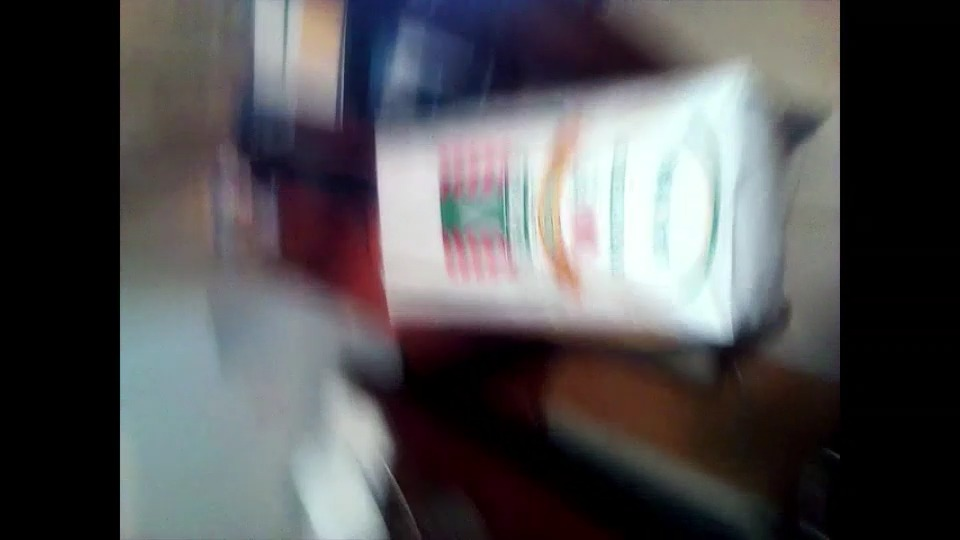maize_flour_green_label: (364, 63, 780, 343)
